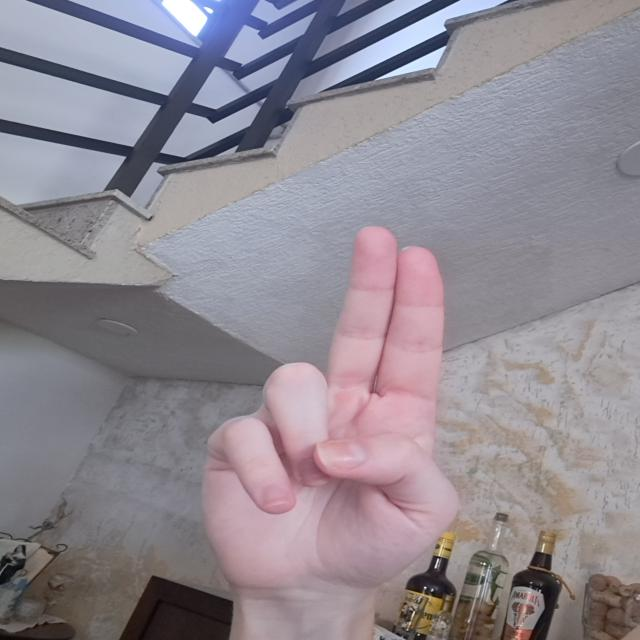U: (175, 224, 471, 598)
